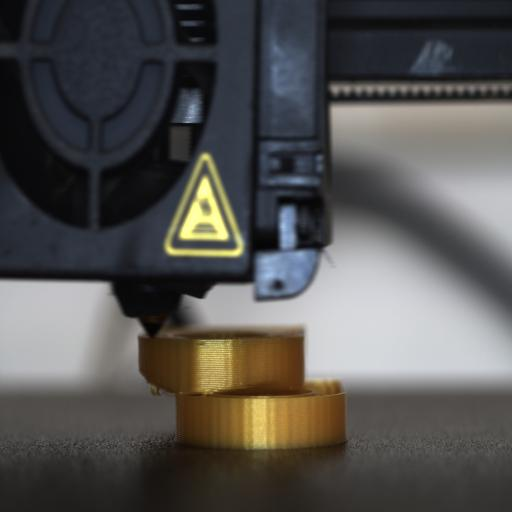layer_shift: (139, 369, 348, 403)
